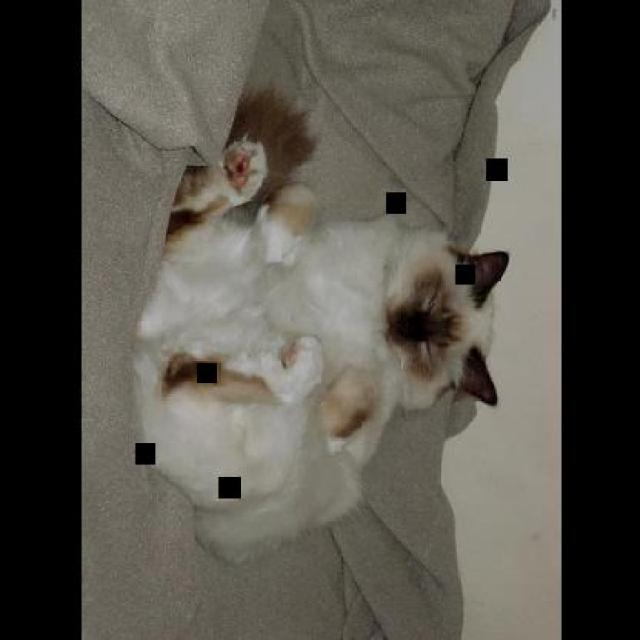unauthorized: (130, 86, 508, 565), (260, 212, 509, 471), (165, 86, 317, 263)
